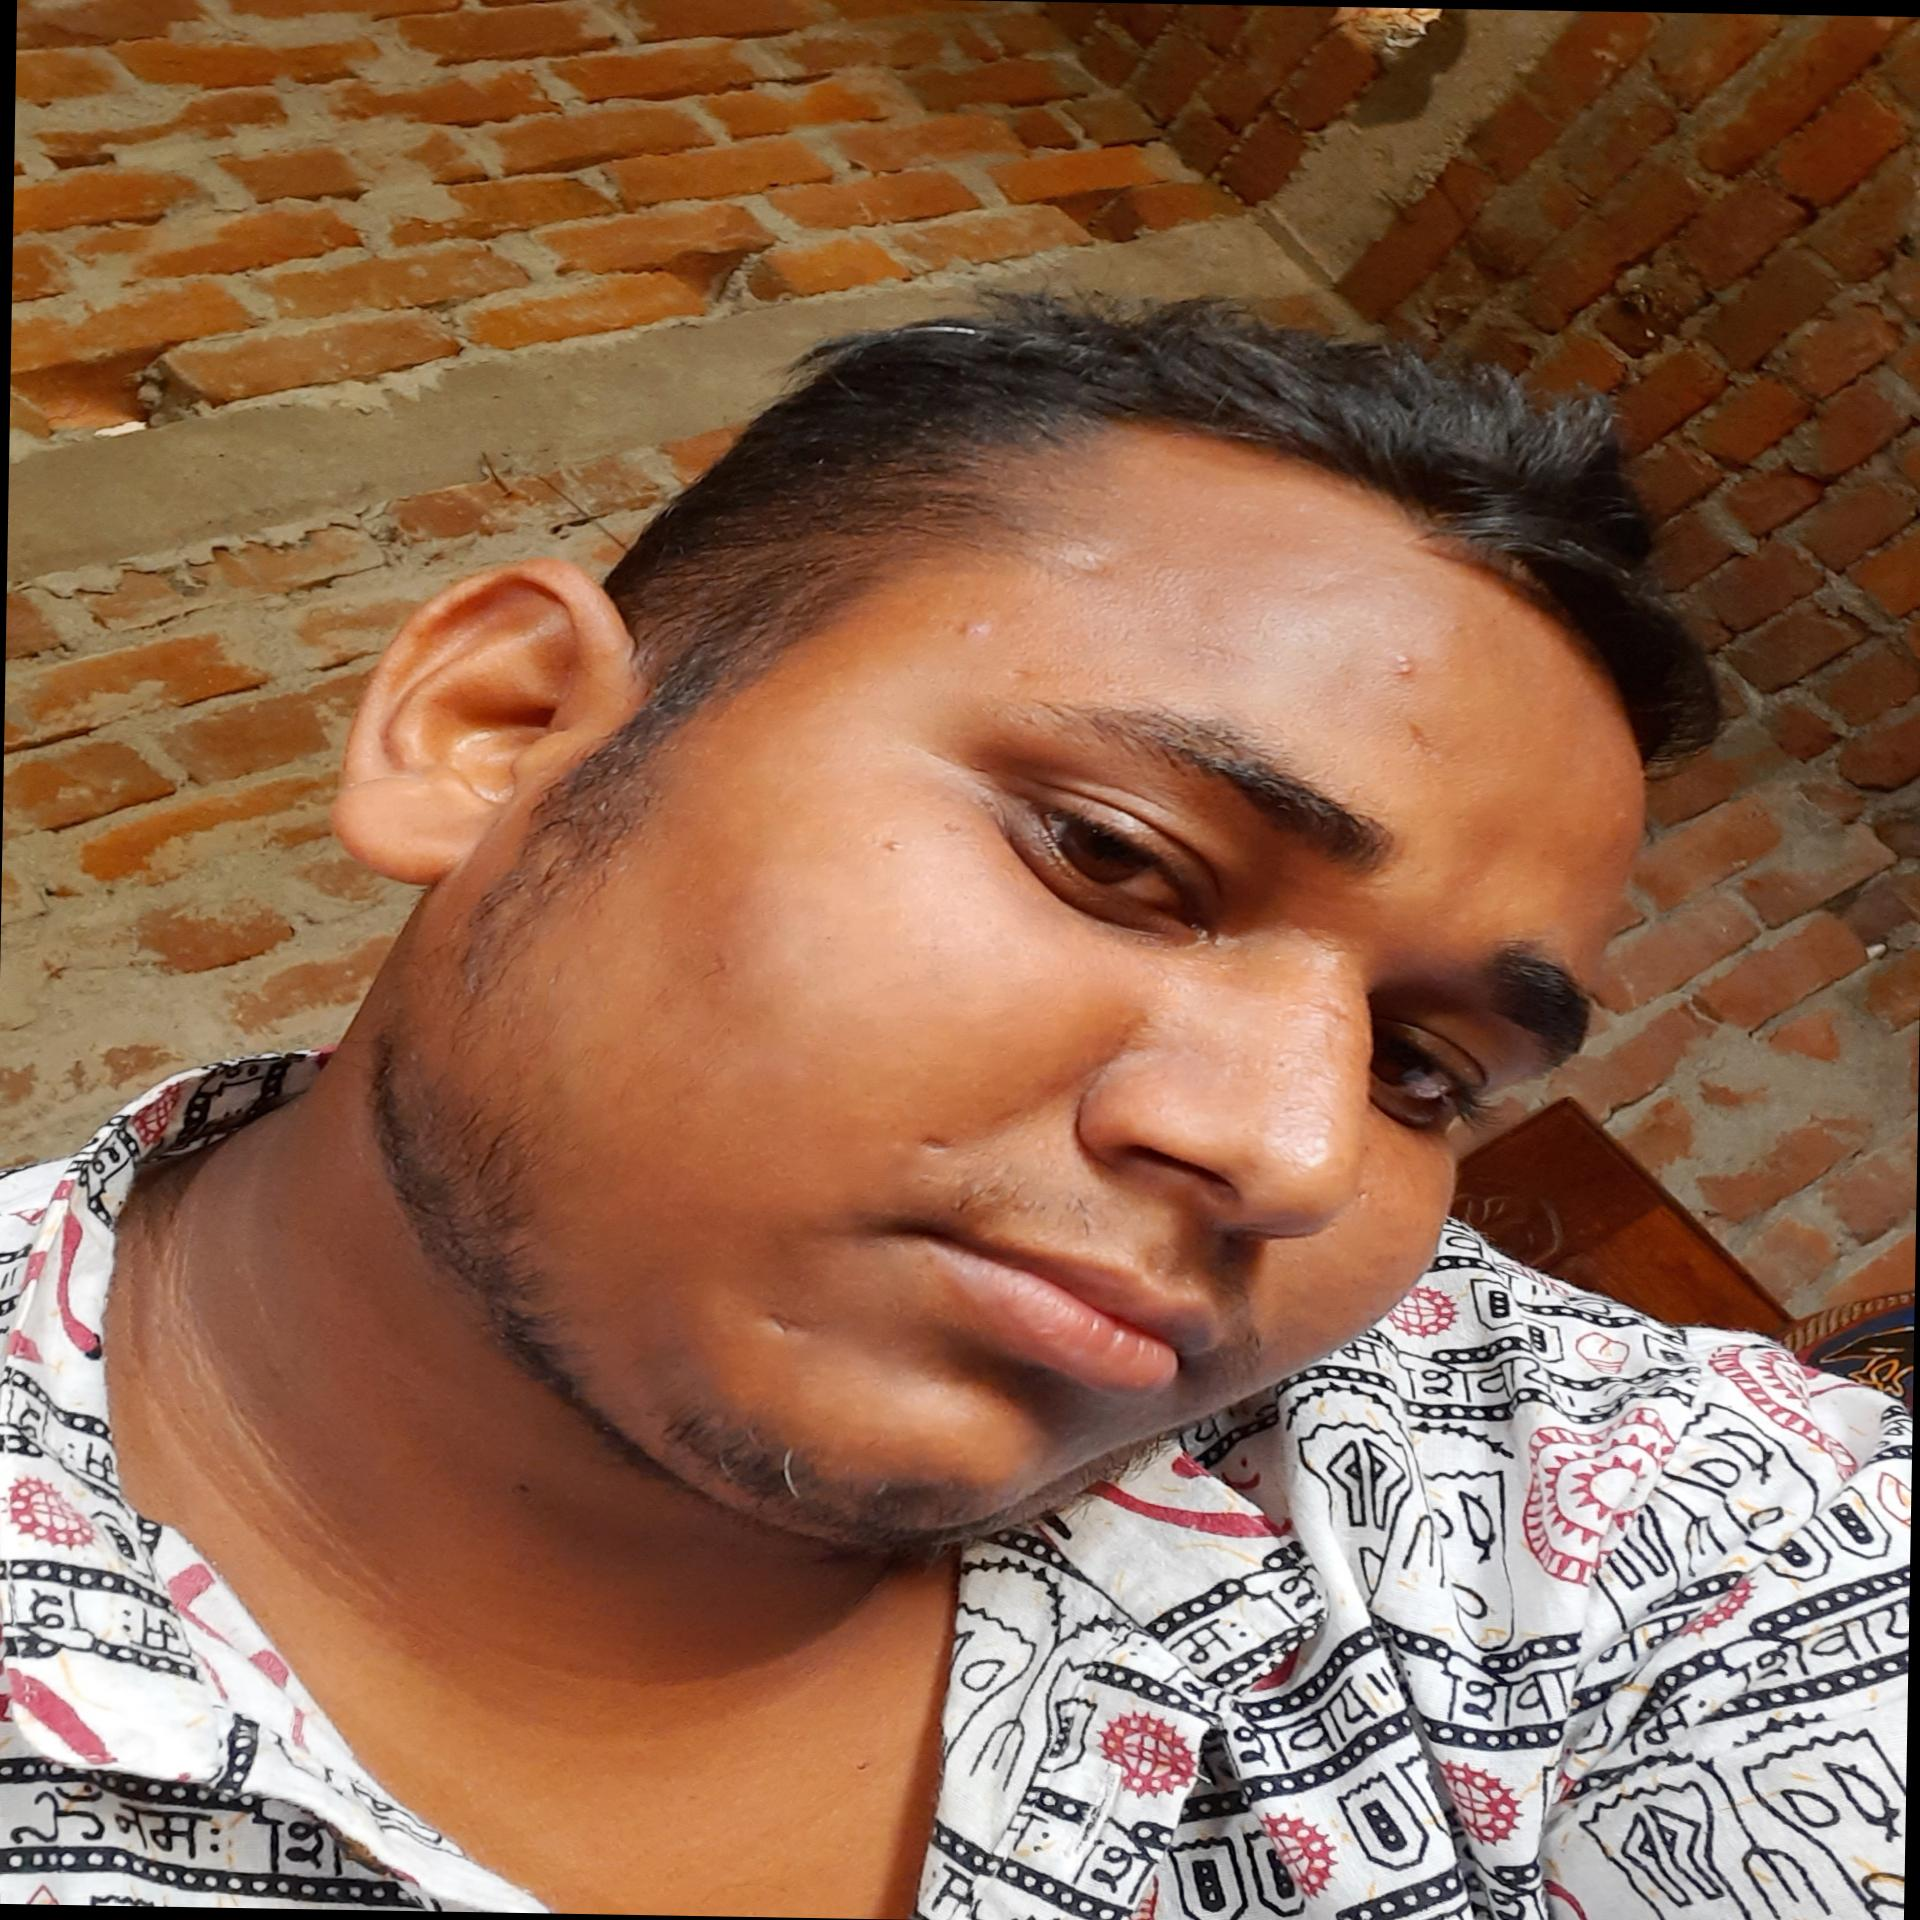Acne: (1393, 645, 1422, 691), (951, 615, 997, 642), (883, 832, 914, 867), (941, 816, 971, 835), (1612, 804, 1633, 830)
Englarged Pores: (1262, 997, 1350, 1159)
